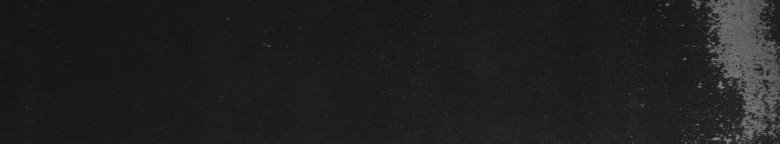kb: (716, 4, 776, 136)
